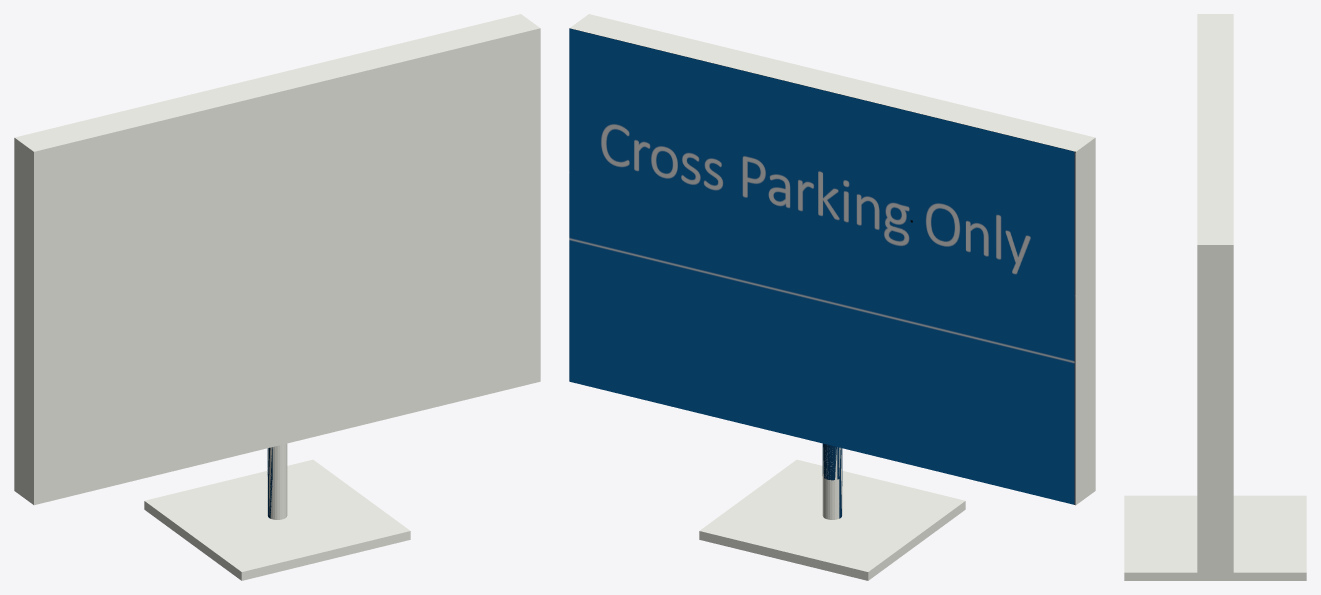
Rendered from Cross_Parking.dae.
3 renders of one model, left to right at view 1: azimuth 30°, elevation 25°; view 2: azimuth 150°, elevation 25°; view 3: azimuth 270°, elevation 25°, orthographic. The views are drawn at different scales.
Visible parts, largest first — view 1: Schild; view 2: Schild; view 3: Schild.
Part boxes in pixels (x1,y1,x2,y2): Schild: [14, 14, 540, 580]; Schild: [569, 14, 1095, 580]; Schild: [1124, 14, 1306, 580].
Bounding box in the file's own units: 0.3 × 0.1 × 0.25.
Materials: 2 (1 with a texture image).
